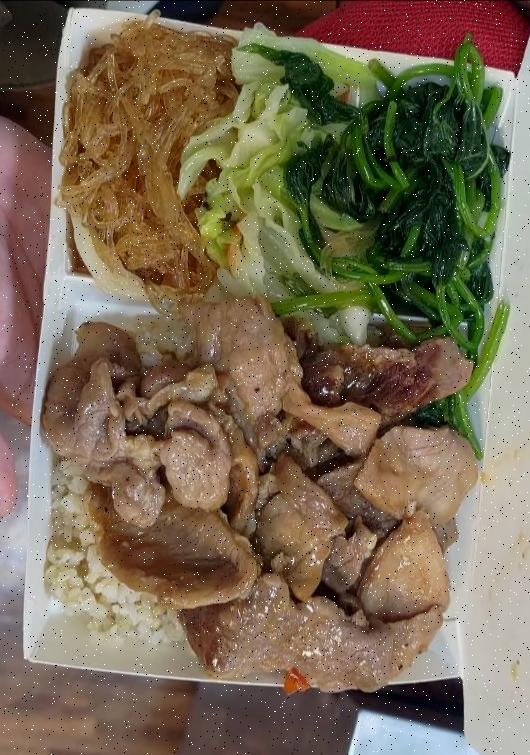box: (22, 12, 520, 711)
sauteed pork: (59, 338, 465, 660)
side dish: (74, 17, 225, 286), (366, 60, 506, 345), (219, 40, 352, 301)
white rice: (28, 321, 481, 644)
